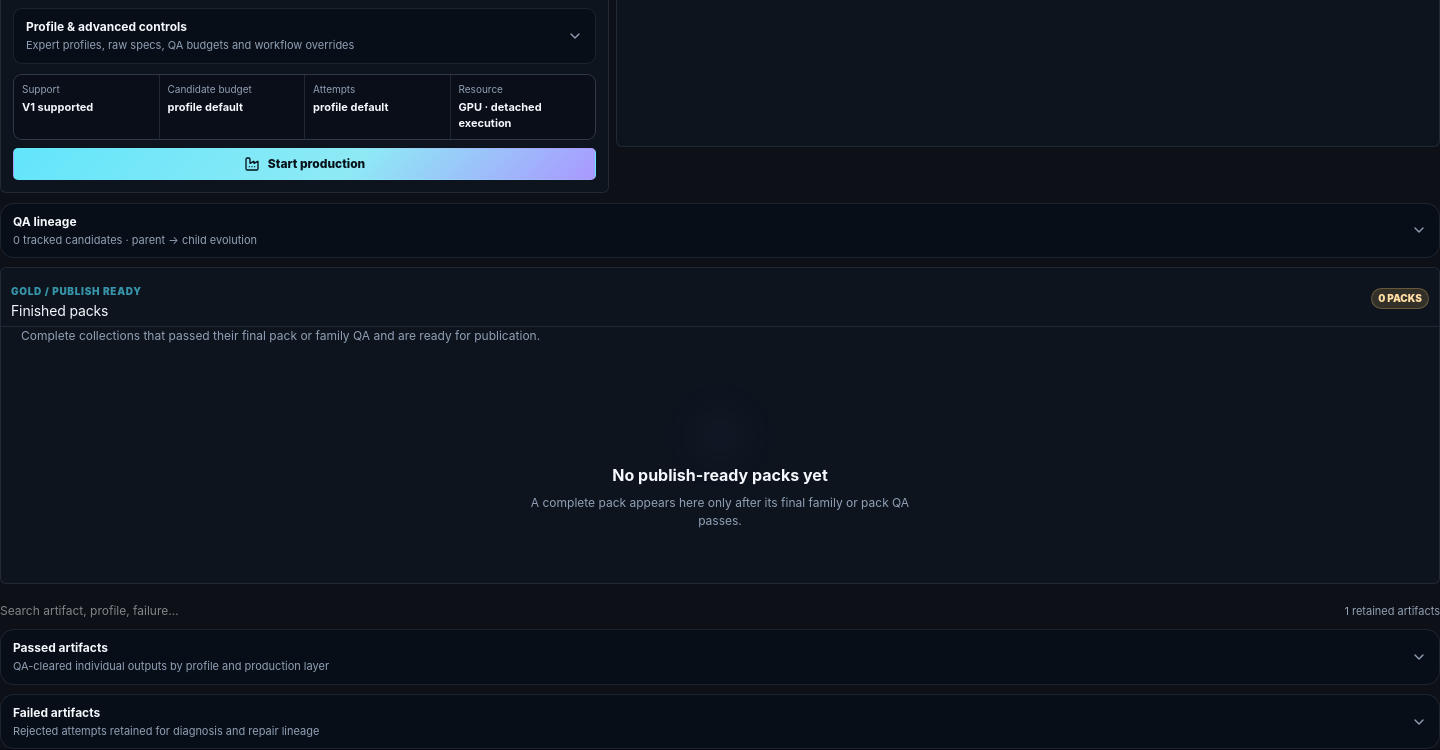
Test case: Image Factory component coverage › covers selected artifact media fallback and empty search result groups
(page scrolled)
Click the button "Passed artifacts" at coordinates (60, 648), box [1,630,1439,684]
(page scrolled)
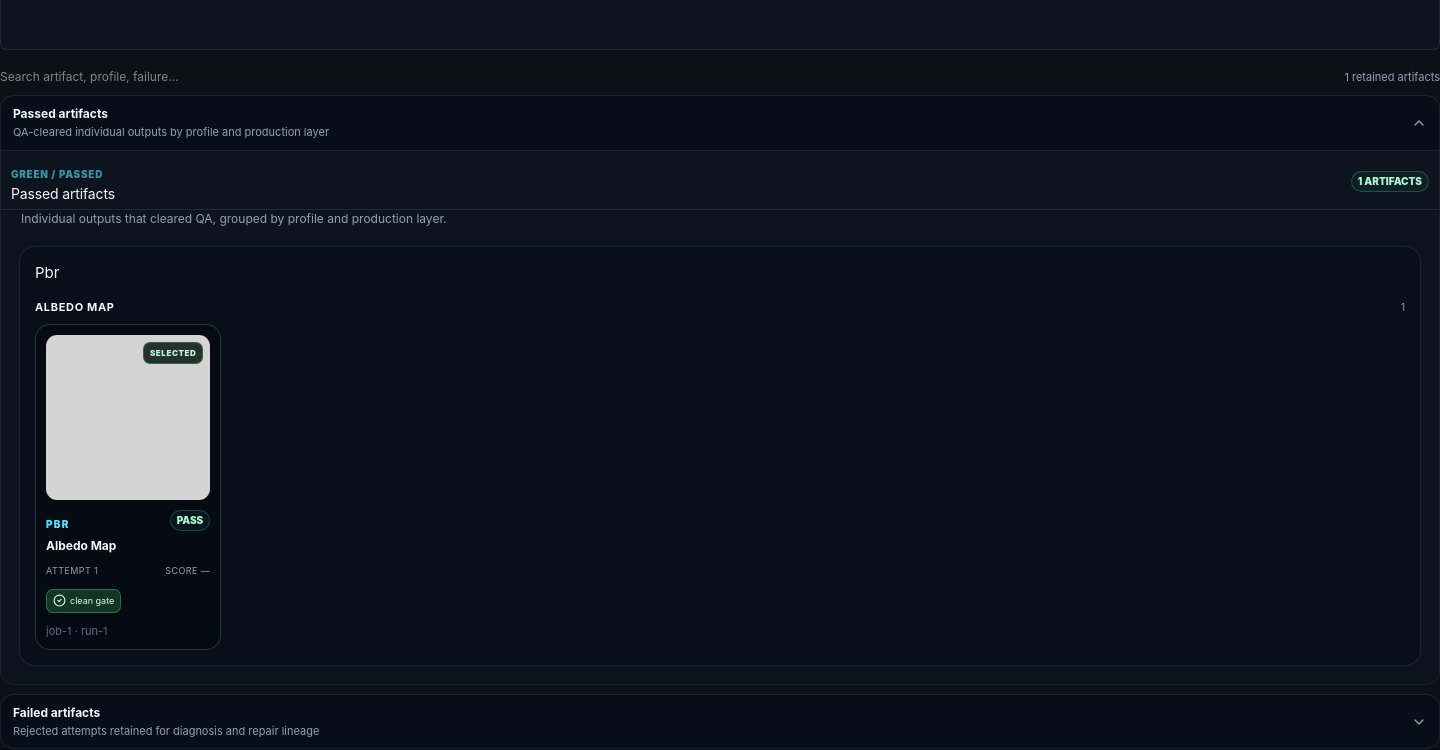
Click the button with test id "gallery-preview-passed-fallback" at coordinates (128, 487), box [35,324,221,650]
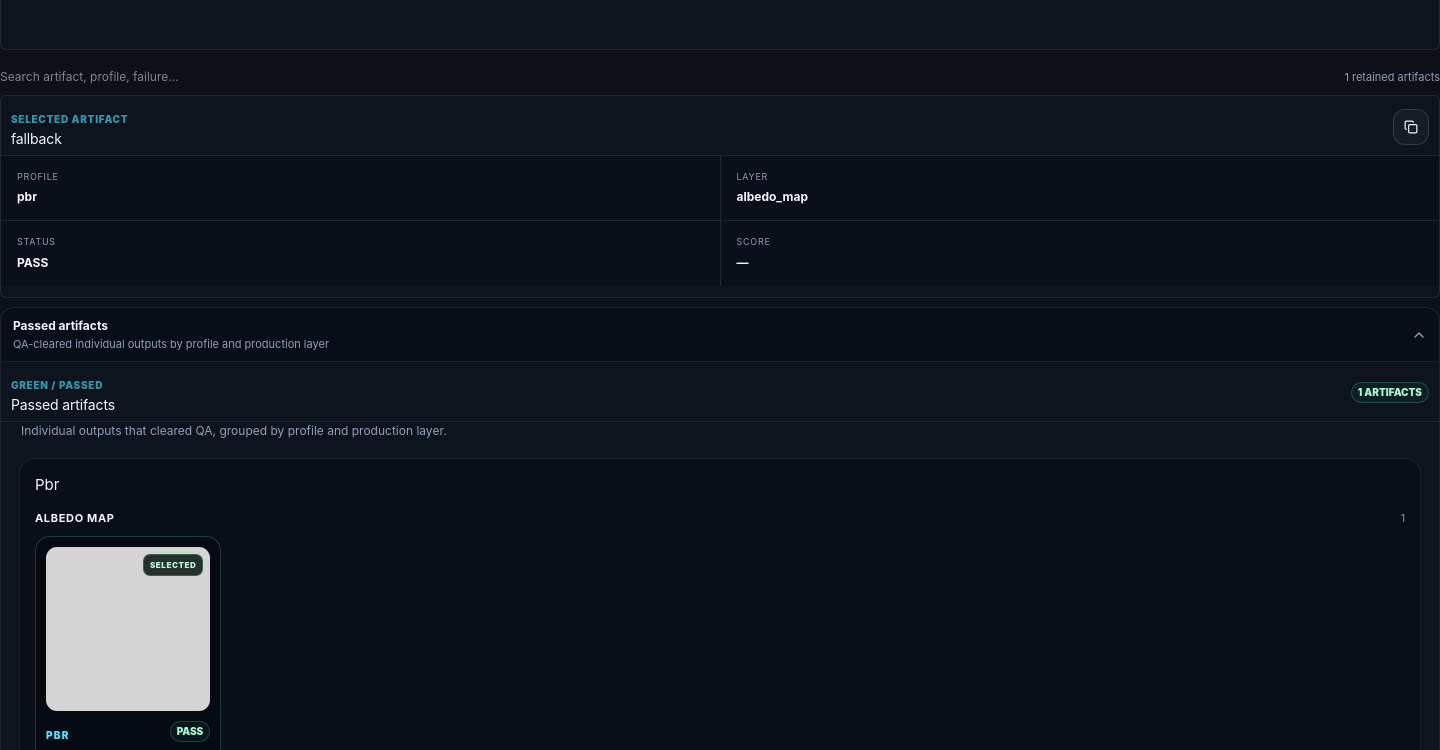
Expected: the text "SELECTED ARTIFACT" is shown, [11,113,128,125]
Type "no-match-anywhere" into the field named "Search Image Factory gallery" at coordinates (668, 77), box [0,68,1336,86]
(page scrolled)
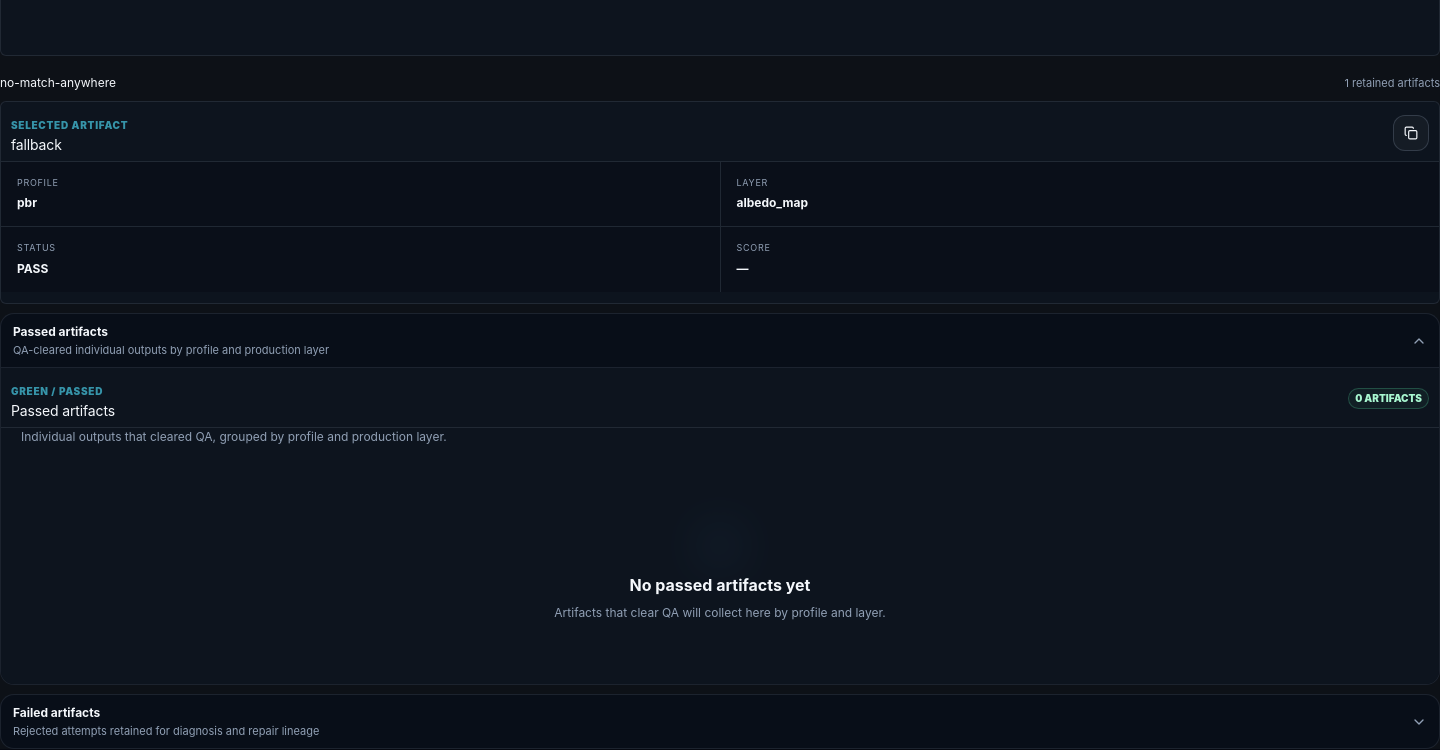
Expected: the text "No passed artifacts yet" is shown, [630,573,810,597]
